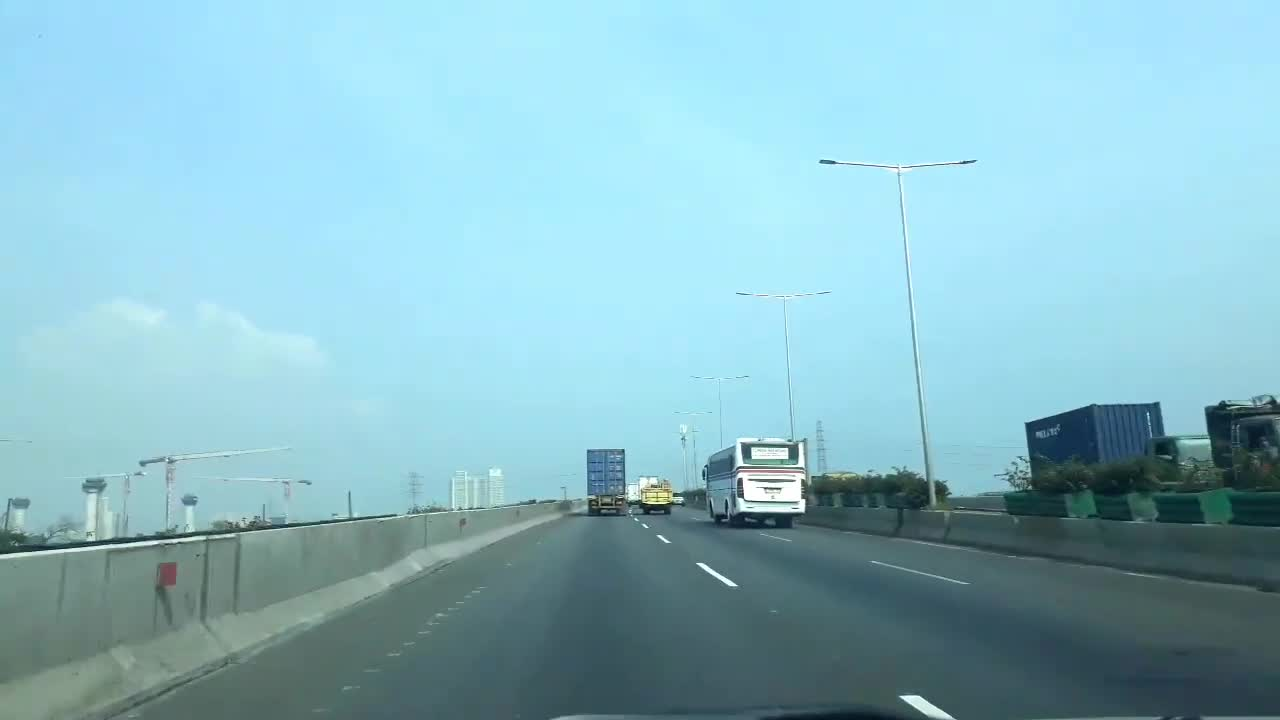plate_positive: (766, 488, 780, 493), (601, 497, 612, 501)
